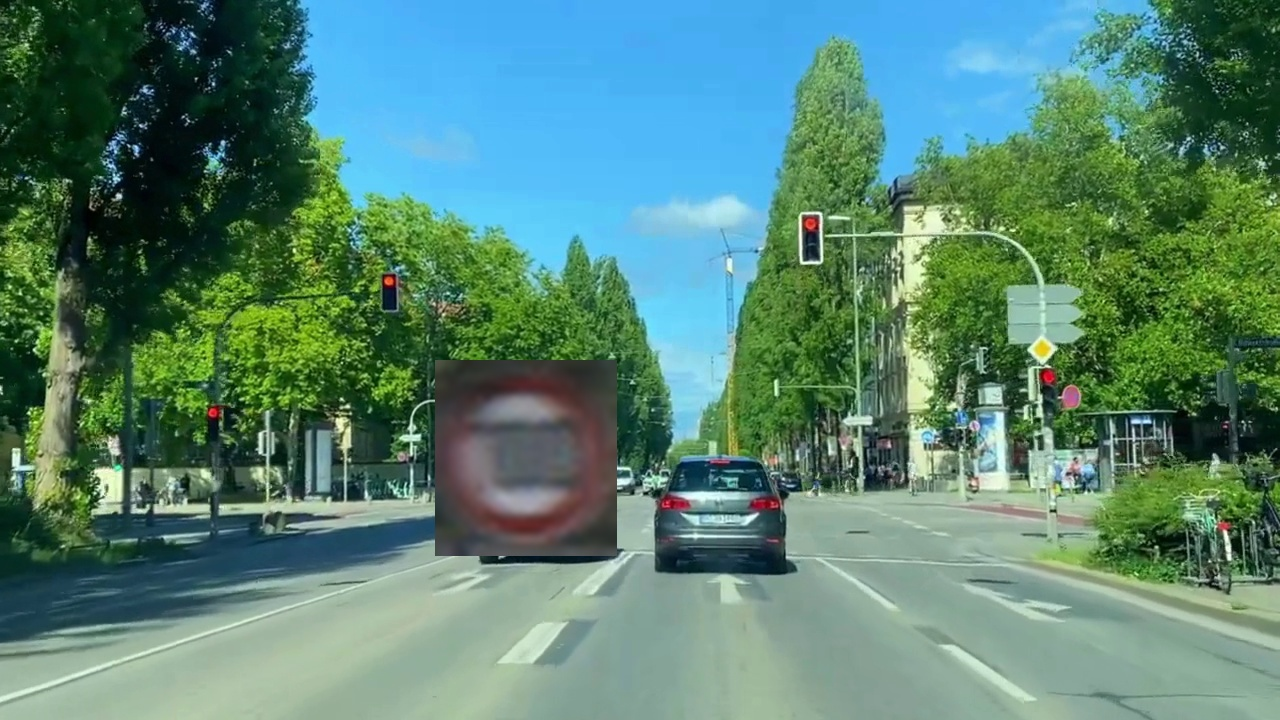Speed 100: (435, 360, 617, 556)
